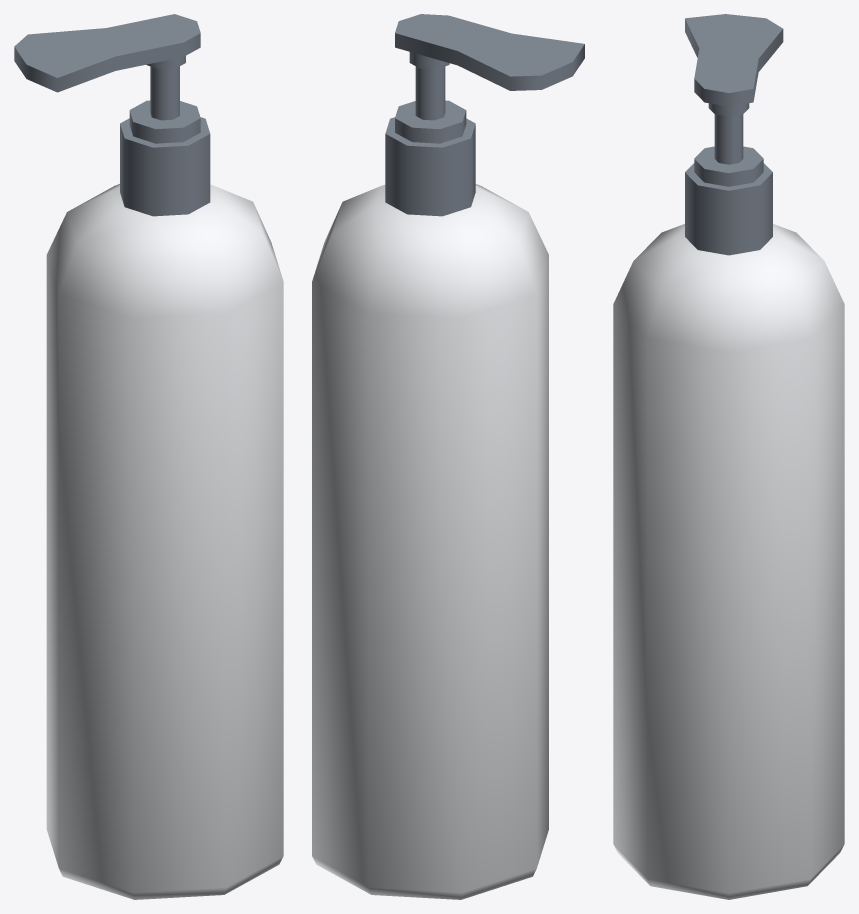
The model's file is Lotion Bottle Large.glb.
The picture shows the model from 3 angles, left to right: view 1: azimuth 30°, elevation 25°; view 2: azimuth 150°, elevation 25°; view 3: azimuth 270°, elevation 25°; orthographic projection. The views are drawn at different scales.
Parts seen in each view (by area): view 1: lotion_bottle_large.001, lotion_bottle_large_nozzle.001; view 2: lotion_bottle_large.001, lotion_bottle_large_nozzle.001; view 3: lotion_bottle_large.001, lotion_bottle_large_nozzle.001.
Boxes of the visible parts, bbox=[...] form: lotion_bottle_large.001: bbox=[46, 100, 283, 899]; lotion_bottle_large_nozzle.001: bbox=[14, 14, 200, 120]; lotion_bottle_large.001: bbox=[312, 100, 548, 899]; lotion_bottle_large_nozzle.001: bbox=[395, 14, 584, 120]; lotion_bottle_large.001: bbox=[613, 146, 844, 899]; lotion_bottle_large_nozzle.001: bbox=[685, 14, 783, 164].
Bounding box in the file's own units: 13.55 × 43.37 × 11.68.
1 material, 1 textured.
